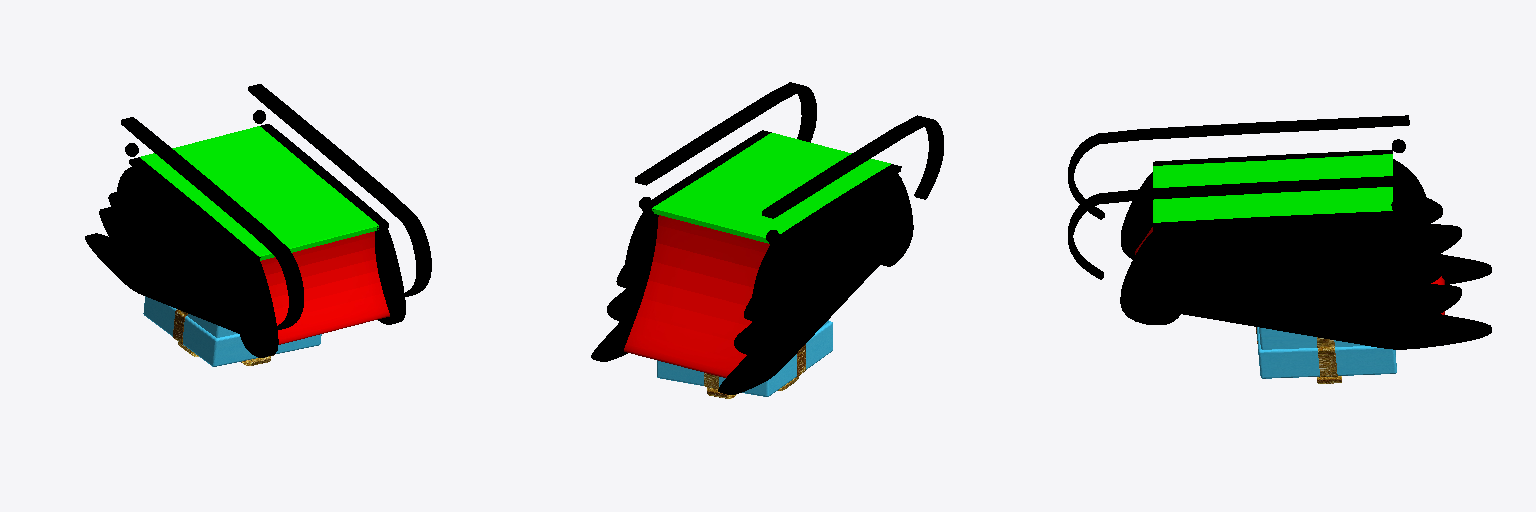
3 views of the same model, side by side, from view 1: azimuth 30°, elevation 25°; view 2: azimuth 150°, elevation 25°; view 3: azimuth 270°, elevation 25° (orthographic).
Bounding box in the file's own units: 12.3 × 17.89 × 31.71.
10 materials, 5 textured.